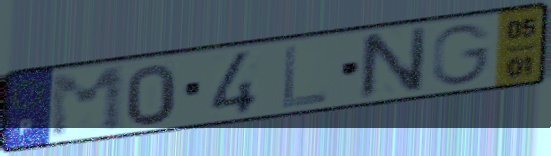0: (121, 59, 180, 129)
4: (207, 46, 261, 117)
G: (429, 22, 495, 89)
L: (278, 41, 332, 111)
M: (45, 63, 128, 142)
N: (357, 23, 431, 104)
